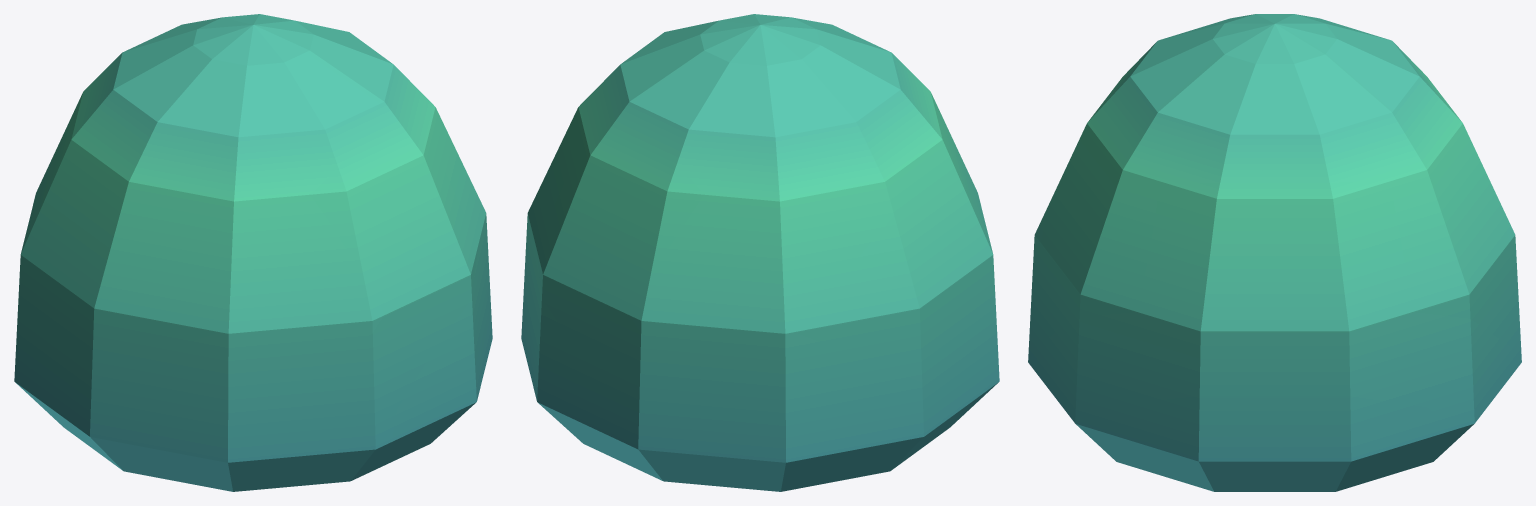
Rendered from bush_1.gltf.
The picture shows the model from 3 angles, left to right: view 1: azimuth 30°, elevation 25°; view 2: azimuth 150°, elevation 25°; view 3: azimuth 270°, elevation 25°; orthographic projection.
Parts seen in each view (by area): view 1: Object_14; view 2: Object_14; view 3: Object_14.
Boxes of the visible parts, box(x1,y1,x2,y2) form: Object_14: box(14, 14, 492, 491); Object_14: box(521, 14, 999, 491); Object_14: box(1028, 14, 1521, 491).
Size of the model in its own units: 3.31 by 3.3 by 3.48.
Materials: 1 (1 with a texture image).
